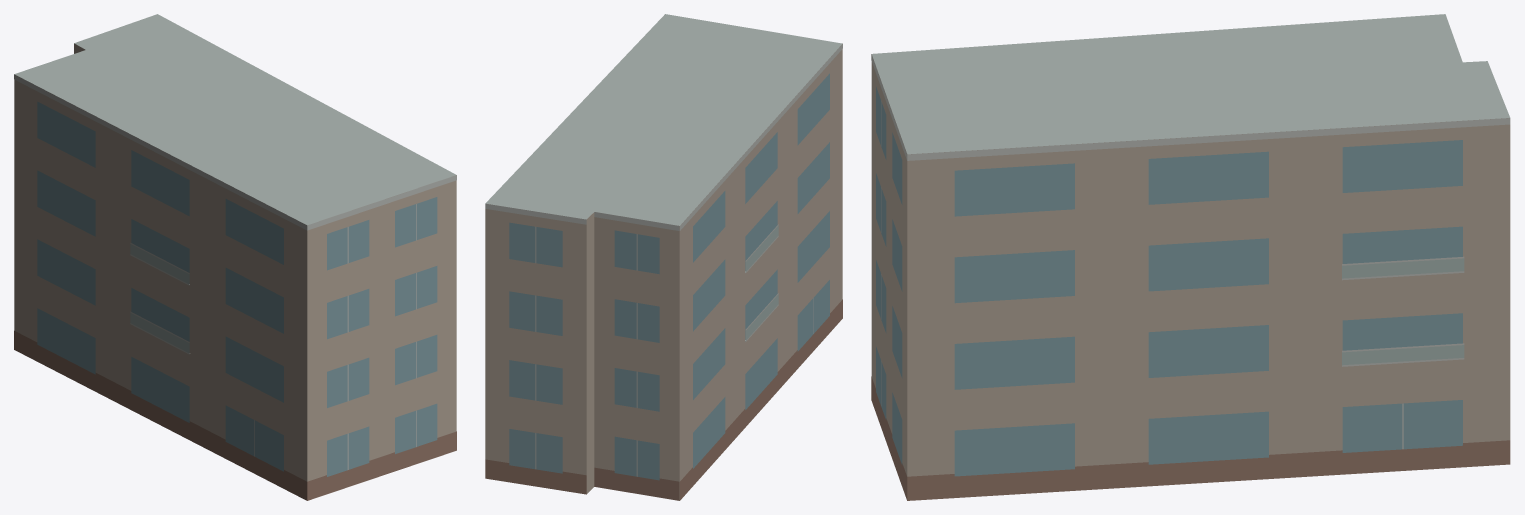
File: survey-upis-32908535.glb
3 renders of one model, left to right at view 1: azimuth 30°, elevation 25°; view 2: azimuth 150°, elevation 25°; view 3: azimuth 270°, elevation 25°, orthographic. The views are drawn at different scales.
Parts seen in each view (by area): view 1: survey-upis-32908535.tmp; view 2: survey-upis-32908535.tmp; view 3: survey-upis-32908535.tmp.
Boxes of the visible parts, x1,y1,x2,y2 form: survey-upis-32908535.tmp: (14, 14, 456, 500); survey-upis-32908535.tmp: (485, 14, 842, 500); survey-upis-32908535.tmp: (871, 14, 1510, 500).
Size of the model in its own units: 11.13 by 12.8 by 21.39.
